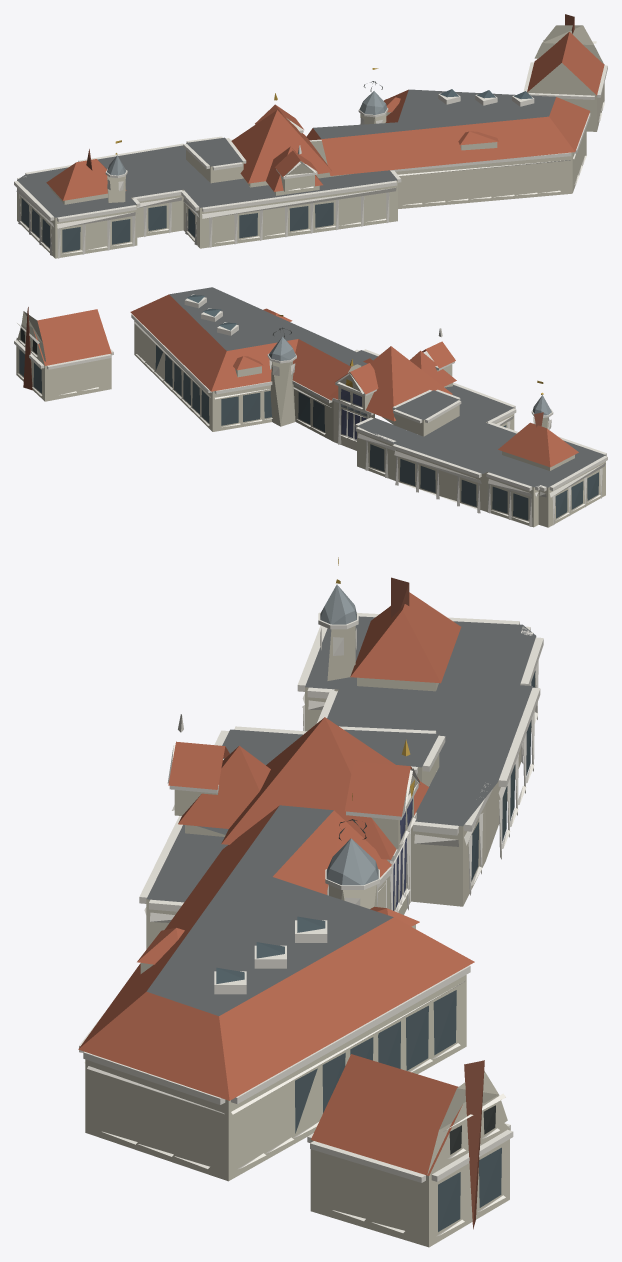
File: stationsplein-paviljoens.lod1.glb
3 views of the same model, one above another, from view 1: azimuth 30°, elevation 25°; view 2: azimuth 150°, elevation 25°; view 3: azimuth 270°, elevation 25° (orthographic). The views are drawn at different scales.
Parts seen in each view (by area): view 1: stationsplein-paviljoens; view 2: stationsplein-paviljoens; view 3: stationsplein-paviljoens.
Part boxes in pixels (left/top/right/bottom): stationsplein-paviljoens: left=14, top=14, right=607, bottom=258; stationsplein-paviljoens: left=14, top=287, right=607, bottom=527; stationsplein-paviljoens: left=78, top=557, right=543, bottom=1247.
Bounding box in the file's own units: 65.24 × 11.67 × 23.07.
